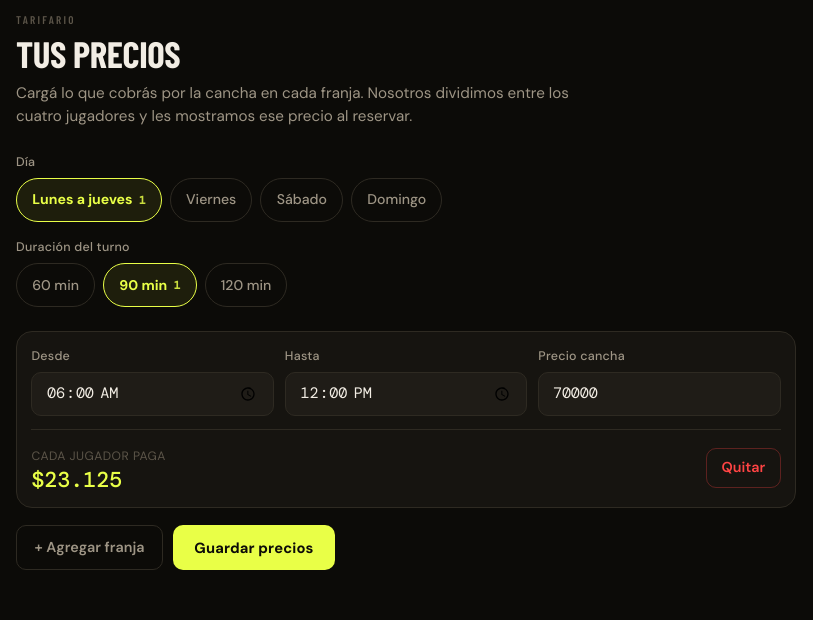
Scenario: el aviso de guardado › aparece después de guardar
Check: the text "Precios guardados" is not shown
Click the button "Guardar precios". click: coordinates (254, 548)
box: left=173, top=525, right=335, bottom=570
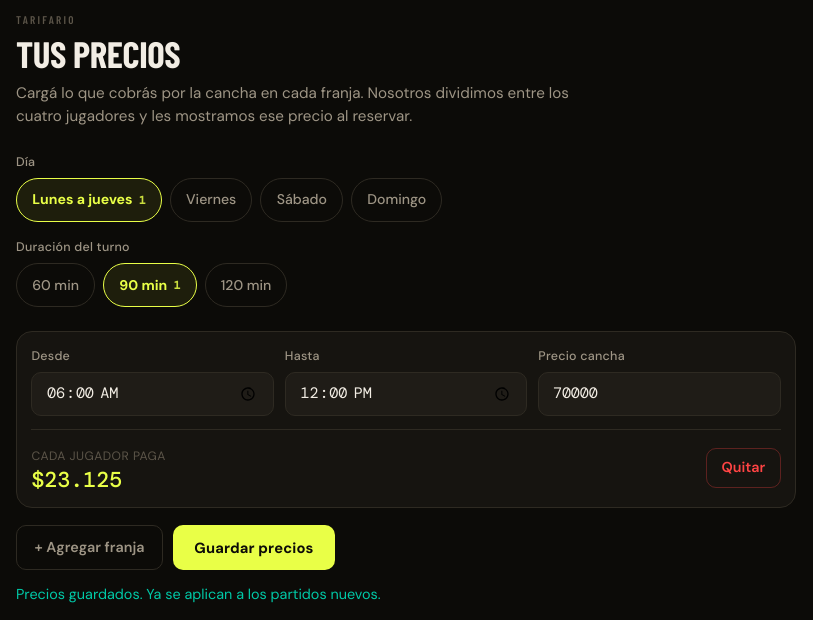
Check: the text "Precios guardados. Ya se aplican a los partidos nuevos." is shown, box left=16, top=585, right=381, bottom=603
